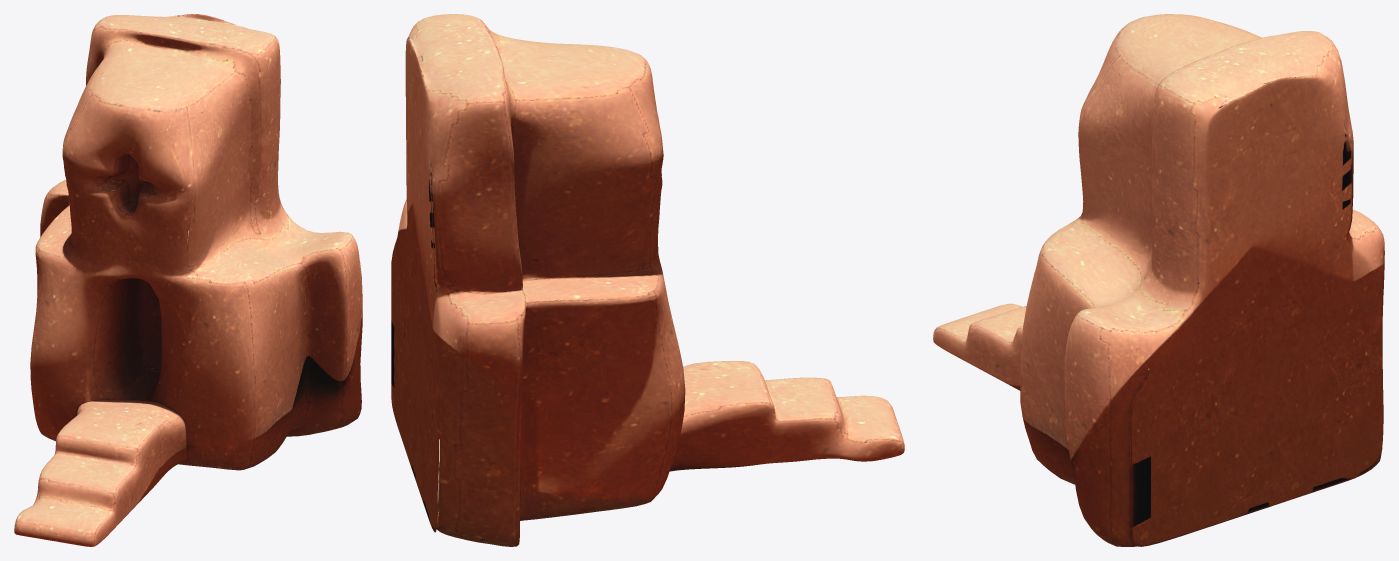
3 renders of one model, left to right at view 1: azimuth 30°, elevation 25°; view 2: azimuth 150°, elevation 25°; view 3: azimuth 270°, elevation 25°, orthographic. The views are drawn at different scales.
Parts seen in each view (by area): view 1: 6; view 2: 6; view 3: 6.
Part boxes in pixels (x1=…): 6: x1=14, y1=14, x2=362, y2=546; 6: x1=391, y1=14, x2=904, y2=546; 6: x1=933, y1=14, x2=1384, y2=546.
Size of the model in its own units: 0.1004 by 0.0933 by 0.0877.
Materials: 1 (1 with a texture image).
